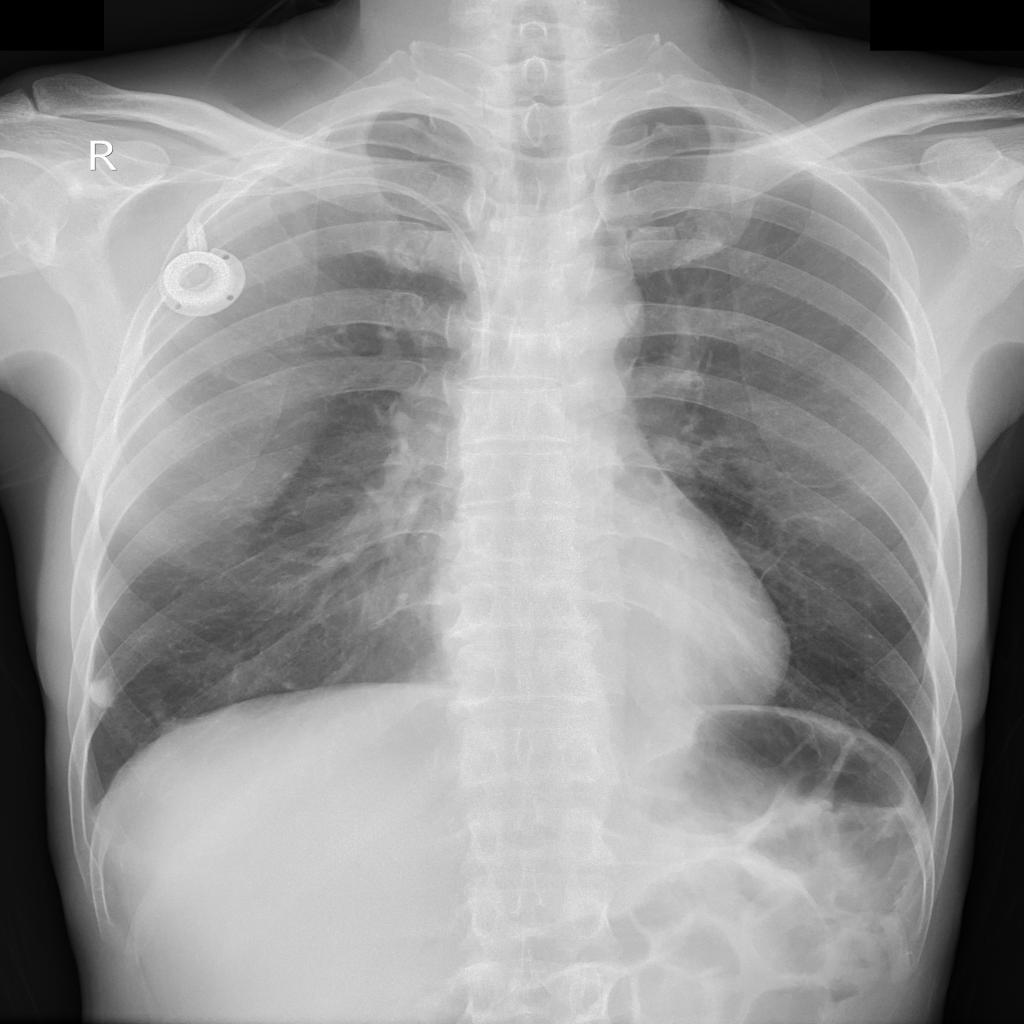Nodule: (86, 680, 117, 711)
